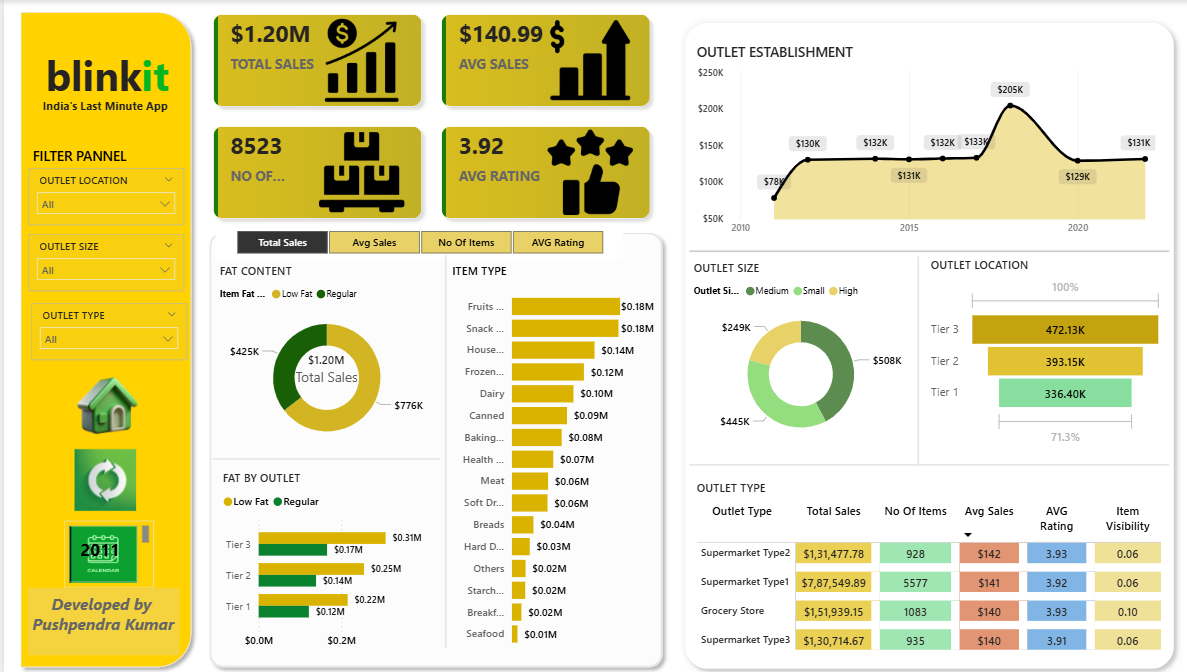

Layout of this report page (visuals, bound fields, positions):
{"tool":"powerbi","page":{"name":"Home","canvas":[1400,800],"ordinal":0},"visuals":[{"type":"shape","box":[10.6,5.3,219.2,790],"z":0},{"type":"textbox","box":[43.4,49.6,167.4,76.5],"z":1000},{"type":"textbox","box":[41.3,109.5,165.4,31],"z":2000},{"type":"cardVisual","fields":{"Data":["BlinkIT Grocery Data.Total Sales","BlinkIT Grocery Data.Avg Sales","BlinkIT Grocery Data.No Of Items","BlinkIT Grocery Data.AVG Rating"]},"box":[229.8,0,549.6,275.7],"z":3000},{"type":"shape","box":[233.3,265.1,551.4,530.2],"z":4000},{"type":"donutChart","title":" FAT CONTENT","fields":{"Y":["BlinkIT Grocery Data.Total Sales"],"Category":["BlinkIT Grocery Data.Item Fat Content"]},"box":[249.2,309.3,261.6,226.2],"z":5000},{"type":"slicer","fields":{"Values":["Metrics.Metrics"]},"box":[249.2,265.1,480.7,40.6],"z":6000},{"type":"cardVisual","fields":{"Data":["BlinkIT Grocery Data.Total Sales"]},"box":[319.9,399.4,120.2,70.7],"z":7000},{"type":"clusteredBarChart","title":"FAT BY OUTLET","fields":{"Y":["BlinkIT Grocery Data.Total Sales"],"Category":["BlinkIT Grocery Data.Outlet Location Type"],"Series":["BlinkIT Grocery Data.Item Fat Content"]},"box":[252.7,553.2,261.6,219.2],"z":8000},{"type":"shape","box":[245.7,532,268.6,17.7],"z":9000},{"type":"shape","box":[1201.8,318.1,12.4,463],"z":10000},{"type":"barChart","title":"ITEM TYPE","fields":{"Y":["BlinkIT Grocery Data.Total Sales"],"Category":["BlinkIT Grocery Data.Item Type"]},"box":[523.1,309.3,247.4,463],"z":11000},{"type":"shape","box":[793.5,17.7,593.8,779.4],"z":12000},{"type":"lineChart","title":"OUTLET ESTABLISHMENT","fields":{"Y":["BlinkIT Grocery Data.Total Sales"],"Category":["BlinkIT Grocery Data.Outlet Establishment Year"]},"box":[810.7,50,550,235.7],"z":13000},{"type":"shape","box":[807.7,286.3,565.6,19.4],"z":14000},{"type":"donutChart","title":"OUTLET SIZE","fields":{"Y":["BlinkIT Grocery Data.Total Sales"],"Category":["BlinkIT Grocery Data.Outlet Size"]},"box":[807.7,305.8,261.6,225],"z":15000},{"type":"shape","box":[517.8,300.4,5.3,463],"z":16000},{"type":"shape","box":[1071.4,301.8,12.5,246.4],"z":17000},{"type":"funnel","title":"OUTLET LOCATION","fields":{"Y":["Sum(BlinkIT Grocery Data.Sales)"],"Category":["BlinkIT Grocery Data.Outlet Location Type"]},"box":[1086.9,302.2,282.8,228],"z":18000},{"type":"shape","box":[808.3,530,565,35],"z":19000},{"type":"pivotTable","title":"OUTLET TYPE","fields":{"Rows":["BlinkIT Grocery Data.Outlet Type"],"Values":["BlinkIT Grocery Data.Total Sales","BlinkIT Grocery Data.No Of Items","BlinkIT Grocery Data.Avg Sales","BlinkIT Grocery Data.AVG Rating","Avg(BlinkIT Grocery Data.Item Visibility)"]},"box":[810.7,566.1,562.5,207.1],"z":20000},{"type":"slicer","fields":{"Values":["BlinkIT Grocery Data.Outlet Location Type"]},"box":[28.3,197.9,183.8,67.2],"z":21000},{"type":"slicer","fields":{"Values":["BlinkIT Grocery Data.Outlet Size"]},"box":[28.3,275.7,183.8,67.2],"z":22000},{"type":"slicer","fields":{"Values":["BlinkIT Grocery Data.Item Type"]},"box":[31.8,357,183.8,67.2],"z":23000},{"type":"shape","box":[28.3,167.9,121.9,30],"z":24000},{"type":"actionButton","box":[28.3,431.2,187.3,93.7],"z":25000},{"type":"actionButton","box":[23,524.9,192.6,81.3],"z":26000},{"type":"advancedSlicerVisual","title":"Calendar","fields":{"Values":["BlinkIT Grocery Data.Outlet Establishment Year"]},"box":[70.7,613.3,106,79.5],"z":27000},{"type":"textbox","box":[28.3,692.8,178.5,79.5],"z":28000}]}

Visuals, with their boxes in screenshot pixels (x1, y1, x2, y2), scaled from the page's 1400x800 canvas onto the 1187x672 screenshot:
shape: 9/4/195/668
textbox: 37/42/179/106
textbox: 35/92/175/118
cardVisual - BlinkIT Grocery Data.Total Sales x BlinkIT Grocery Data.Avg Sales: 195/0/661/232
shape: 198/223/665/668
" FAT CONTENT" donutChart: 211/260/433/450
slicer - Metrics.Metrics: 211/223/619/257
cardVisual - BlinkIT Grocery Data.Total Sales: 271/335/373/395
"FAT BY OUTLET" clusteredBarChart: 214/465/436/649
shape: 208/447/436/462
shape: 1019/267/1029/656
"ITEM TYPE" barChart: 444/260/653/649
shape: 673/15/1176/670
"OUTLET ESTABLISHMENT" lineChart: 687/42/1154/240
shape: 685/240/1164/257
"OUTLET SIZE" donutChart: 685/257/907/446
shape: 439/252/444/641
shape: 908/254/919/460
"OUTLET LOCATION" funnel: 922/254/1161/445
shape: 685/445/1164/475
"OUTLET TYPE" pivotTable: 687/476/1164/649
slicer - BlinkIT Grocery Data.Outlet Location Type: 24/166/180/223
slicer - BlinkIT Grocery Data.Outlet Size: 24/232/180/288
slicer - BlinkIT Grocery Data.Item Type: 27/300/183/356
shape: 24/141/127/166
actionButton: 24/362/183/441
actionButton: 20/441/183/509
"Calendar" advancedSlicerVisual: 60/515/150/582
textbox: 24/582/175/649
